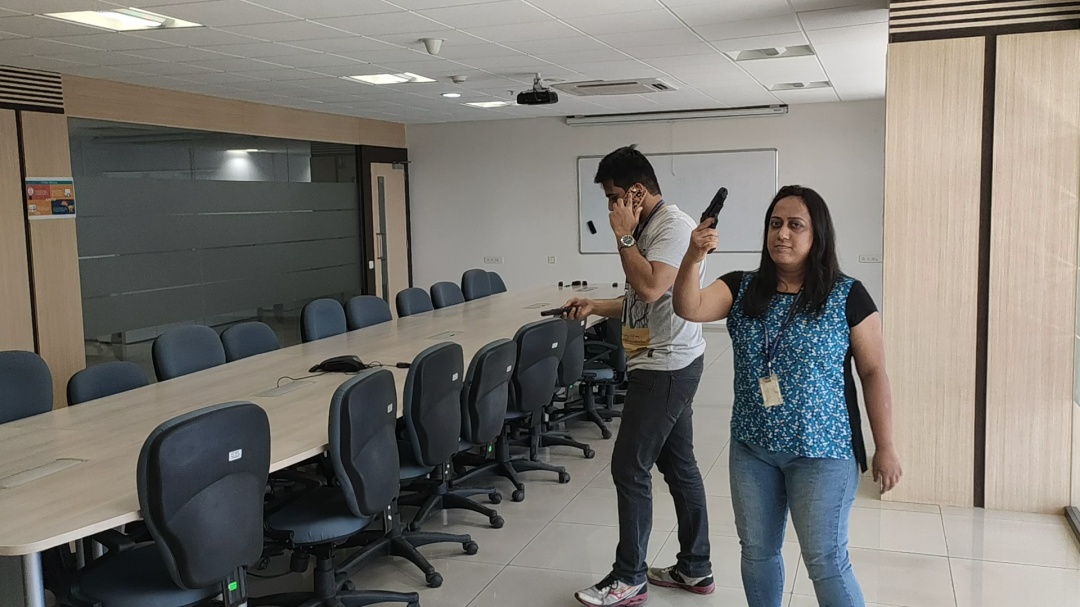gun: (698, 185, 729, 229)
